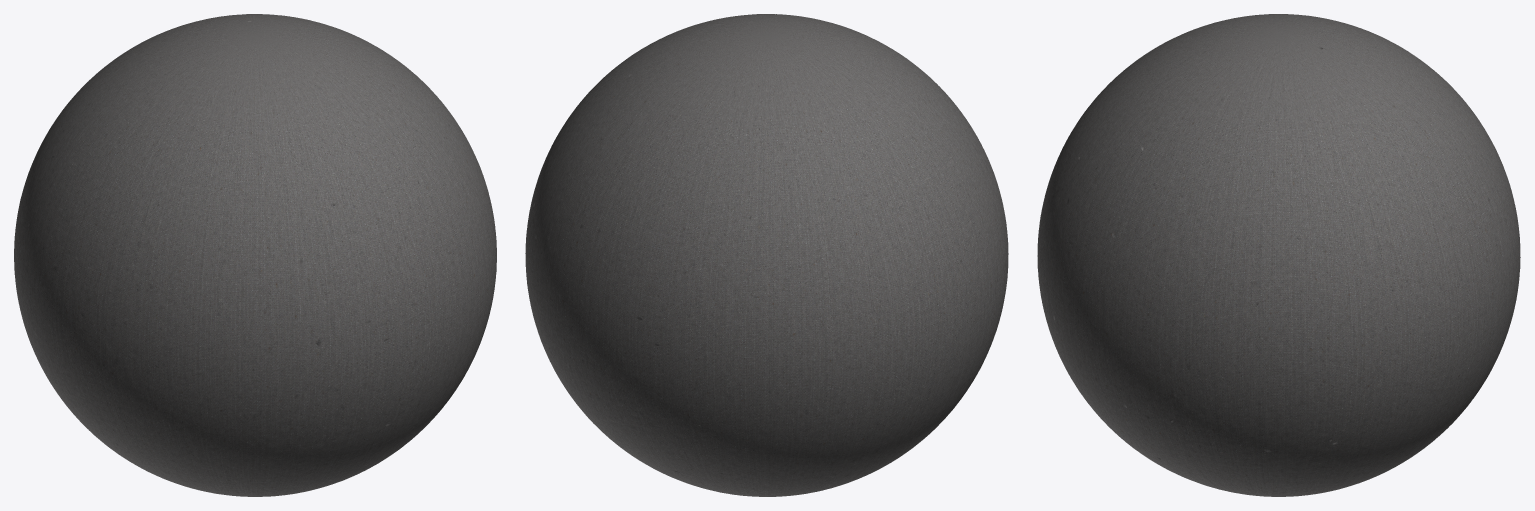
File: denim_fabric_05_2k.gltf
3 views of the same model, side by side, from view 1: azimuth 30°, elevation 25°; view 2: azimuth 150°, elevation 25°; view 3: azimuth 270°, elevation 25° (orthographic).
Visible parts, largest first — view 1: sphere_gltf; view 2: sphere_gltf; view 3: sphere_gltf.
Part boxes in pixels (<box>): sphere_gltf: <box>14,14,496,496</box>; sphere_gltf: <box>525,14,1008,496</box>; sphere_gltf: <box>1037,14,1520,496</box>.
Bounding box in the file's own units: 0.2715 × 0.2715 × 0.2715.
Materials: 1 (1 with a texture image).
